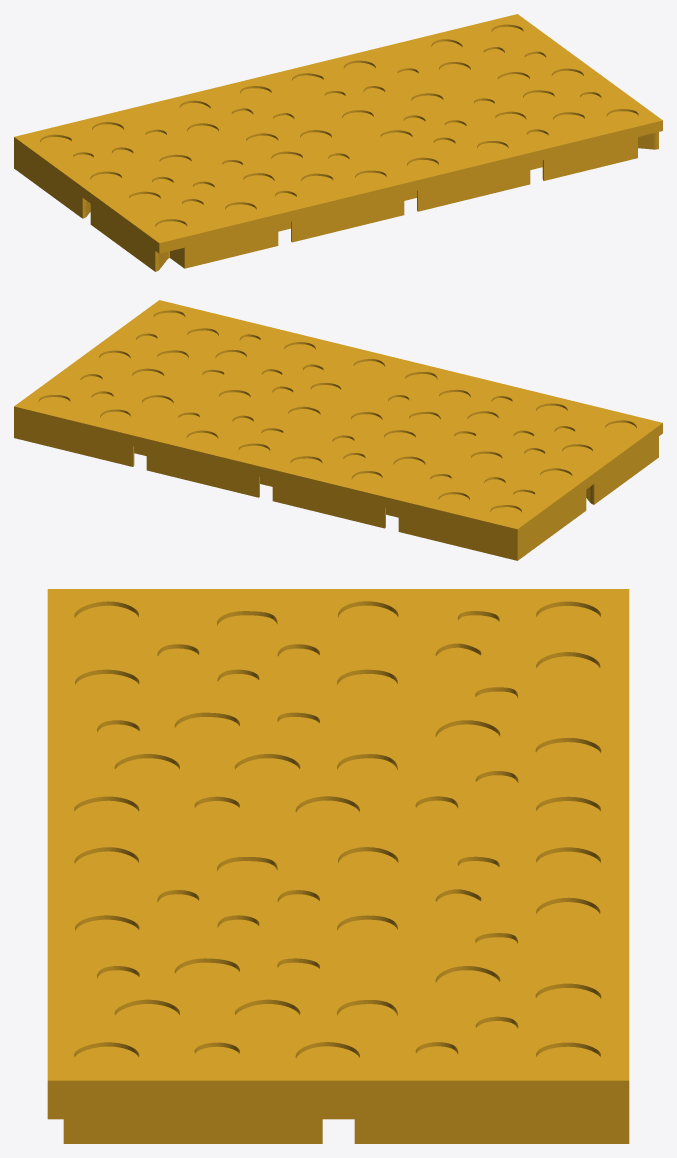
Rendered from 5x10 Sand.obj.
3 renders of one model, top to bottom at view 1: azimuth 30°, elevation 25°; view 2: azimuth 150°, elevation 25°; view 3: azimuth 270°, elevation 25°, orthographic. The views are drawn at different scales.
Visible parts, largest first — view 1: Körper1; view 2: Körper1; view 3: Körper1.
Boxes of the visible parts, box(x1,y1,x2,y2) form: Körper1: box(14, 14, 662, 271); Körper1: box(14, 300, 662, 560); Körper1: box(47, 589, 629, 1143).
Bounding box in the file's own units: 100 × 6 × 50.
